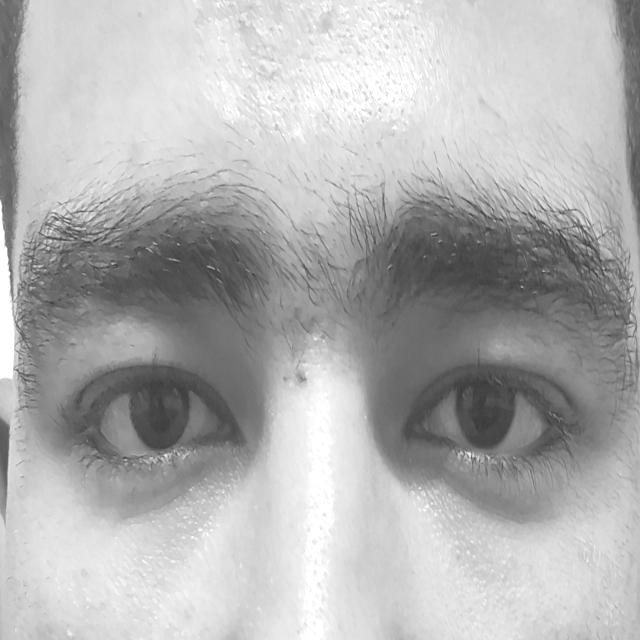real: (26, 200, 630, 554)
